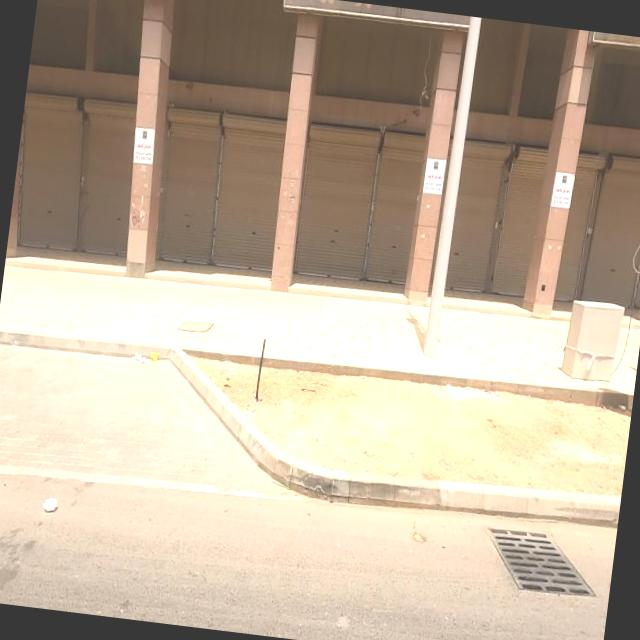debris: (110, 328, 182, 400), (18, 484, 81, 564), (223, 302, 266, 359)
